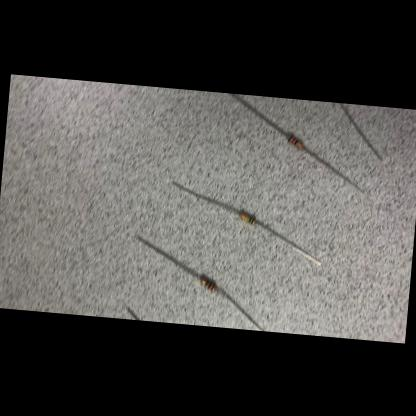resistor: (286, 133, 304, 148), (239, 211, 258, 224), (200, 277, 218, 290)
wire: (134, 235, 203, 280), (254, 221, 324, 265), (301, 146, 367, 192), (334, 102, 386, 160), (225, 93, 290, 137), (170, 180, 242, 214), (214, 286, 267, 330), (127, 307, 140, 319)
